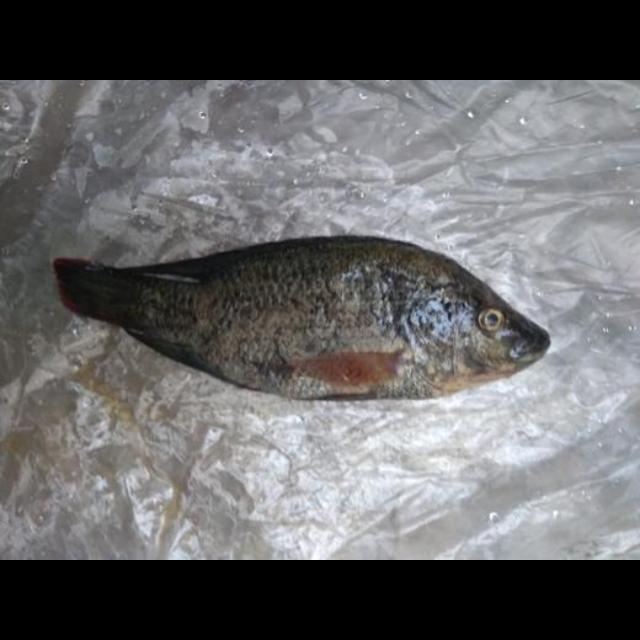Tilapia: (58, 236, 556, 402)
